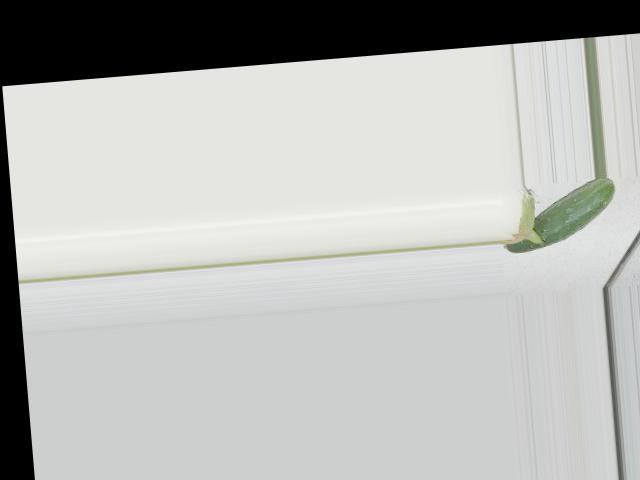cucumber: (498, 176, 619, 253)
